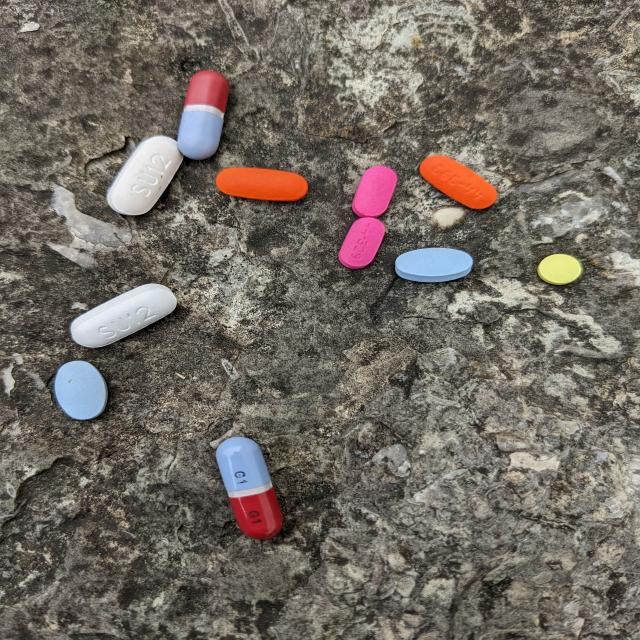non-organic waste: (214, 435, 284, 541), (69, 282, 179, 348), (106, 135, 184, 217), (176, 69, 231, 161), (418, 154, 498, 210), (53, 359, 110, 421), (215, 166, 309, 203), (394, 246, 474, 284), (337, 217, 386, 270), (351, 164, 398, 218), (536, 253, 583, 285)
